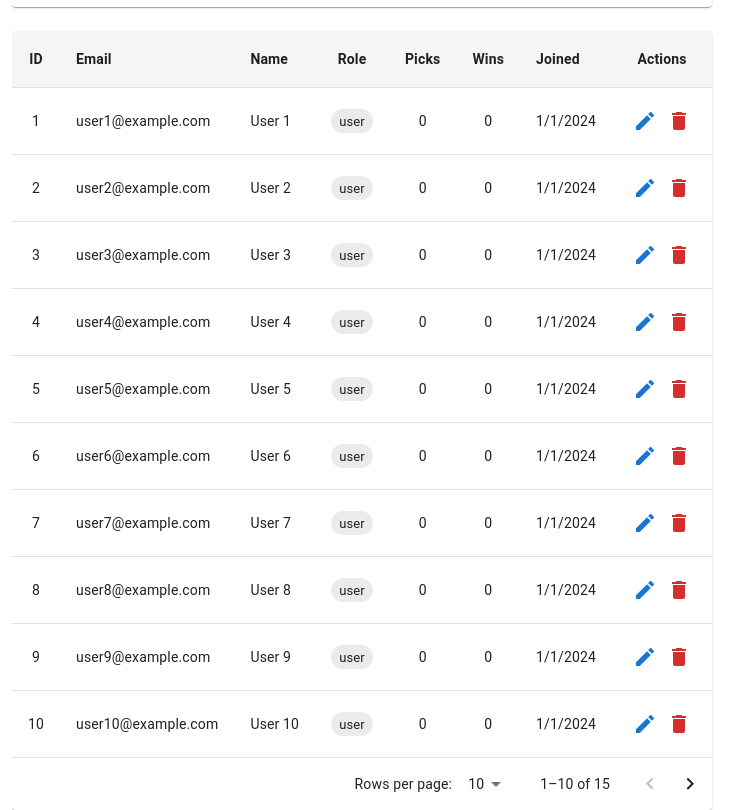
Test case: AdminUsersPage (Integration) › should paginate through the list of users
(page scrolled)
Expected: the text "user1@example.com" is shown, [60,88,234,156]
# Click the button first to update the component state
Step 1. Click the button named "next page" → (690, 784), box [670,764,710,804]
(page scrolled)
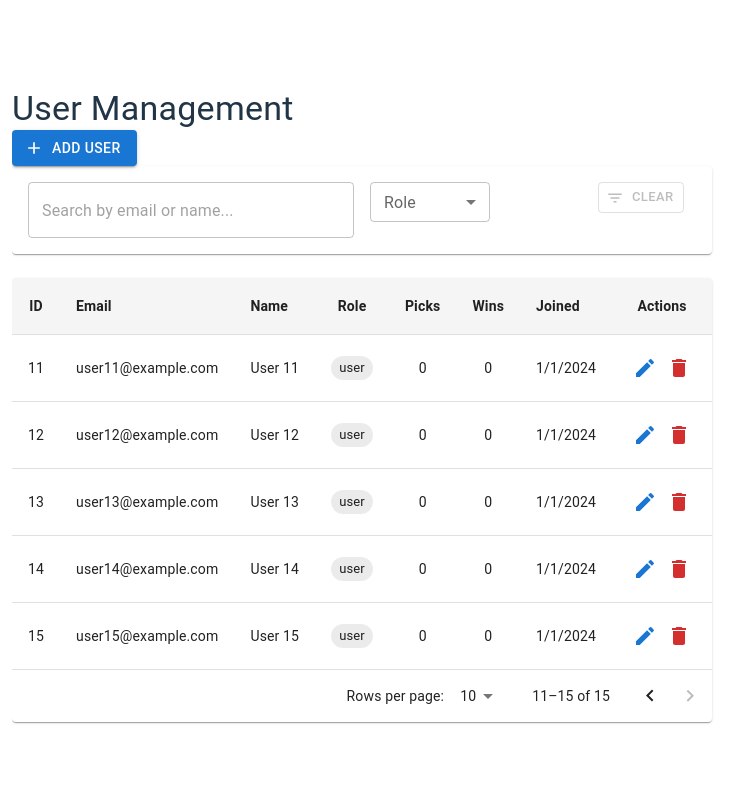
Result: the text "user1@example.com" is gone
Result: the text "user11@example.com" is shown at [60,335,234,402]
